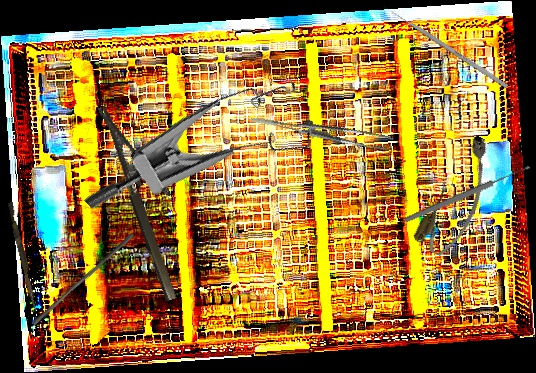Cannula: (410, 130, 508, 262)
Needle Holder: (97, 94, 204, 303)
Pusher: (382, 4, 509, 89), (31, 228, 135, 330), (4, 201, 42, 313)
Speculum: (82, 39, 333, 285)
Surgical Spoon: (403, 163, 532, 225)
Tissue Forceps: (250, 94, 390, 164)
